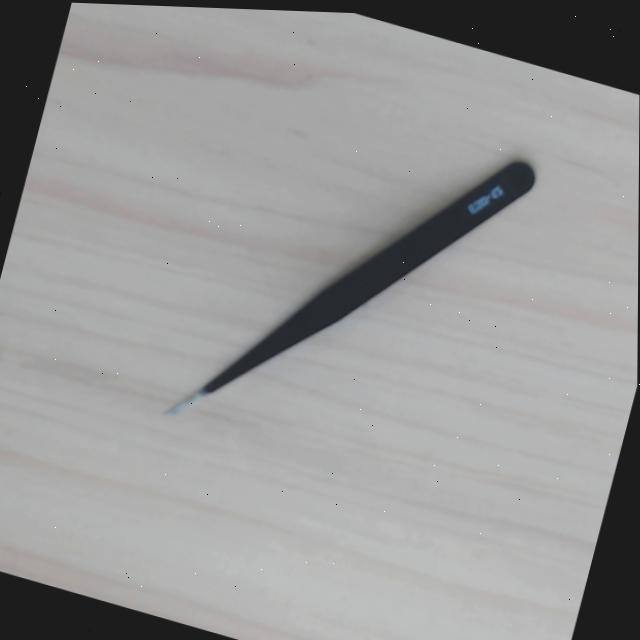Tweezers: (159, 151, 541, 428)
